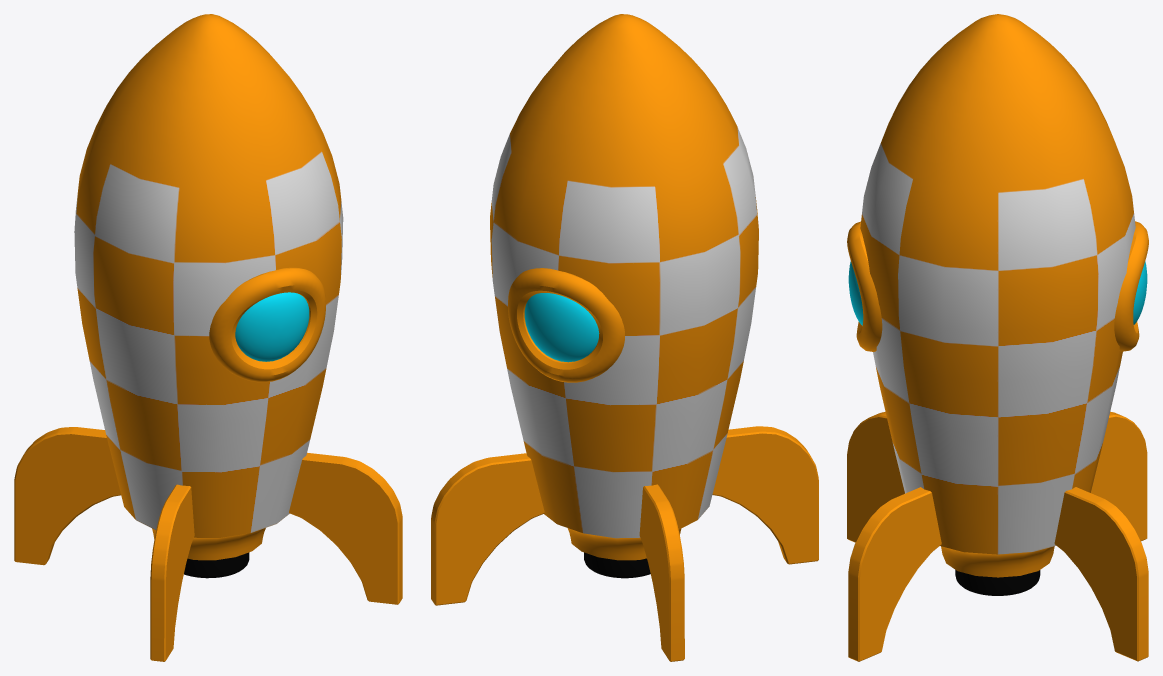
Rendered from rocket.glb.
The picture shows the model from 3 angles, left to right: view 1: azimuth 30°, elevation 25°; view 2: azimuth 150°, elevation 25°; view 3: azimuth 270°, elevation 25°; orthographic projection. The views are drawn at different scales.
Visible parts, largest first — view 1: rocket; view 2: rocket; view 3: rocket.
Part boxes in pixels (x1=…): rocket: x1=14, y1=14, x2=402, y2=661; rocket: x1=431, y1=14, x2=818, y2=661; rocket: x1=847, y1=14, x2=1148, y2=661.
Bounding box in the file's own units: 0.469 × 1 × 0.4693.
1 material, 1 textured.
